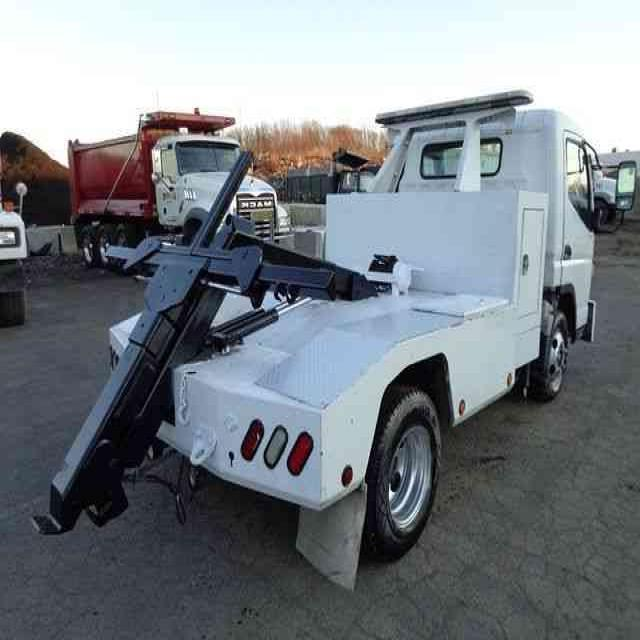truck: (32, 88, 636, 572), (67, 103, 291, 284)
